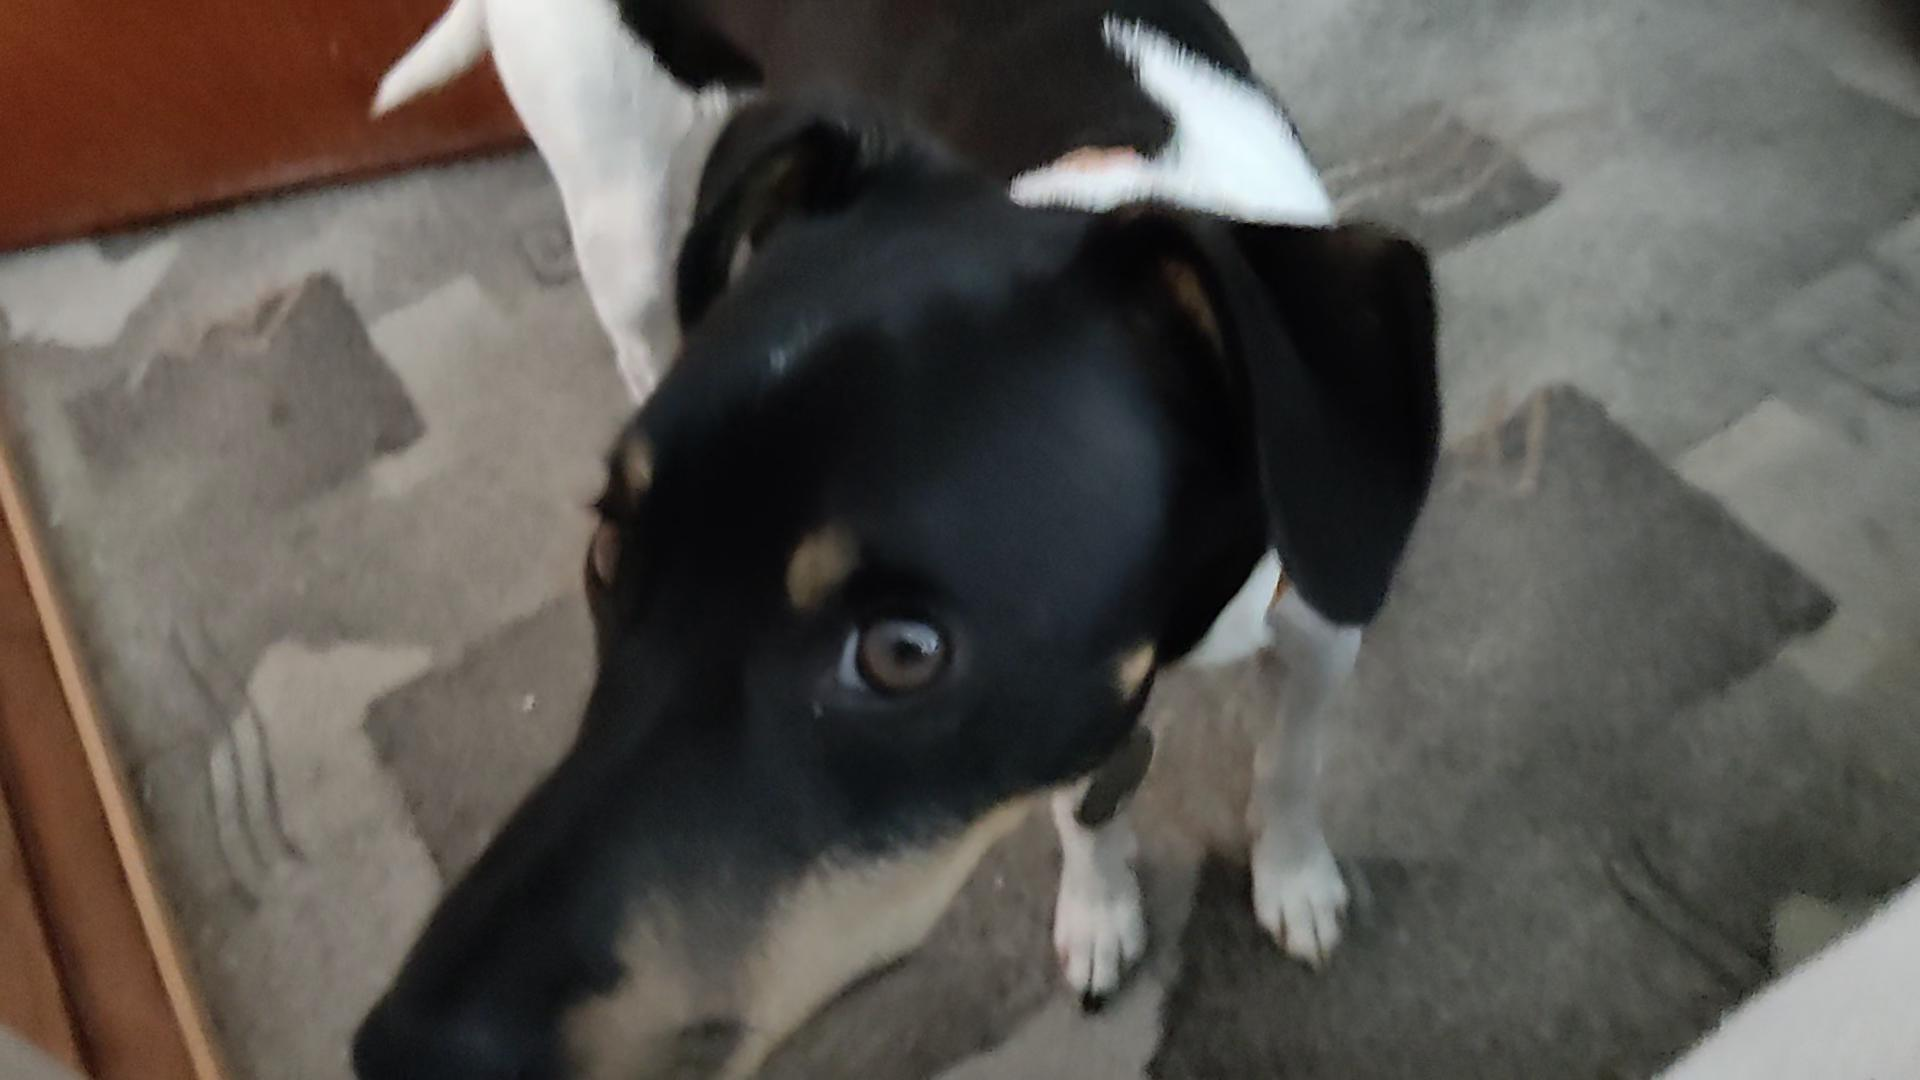Dog: (340, 0, 1452, 1079)
